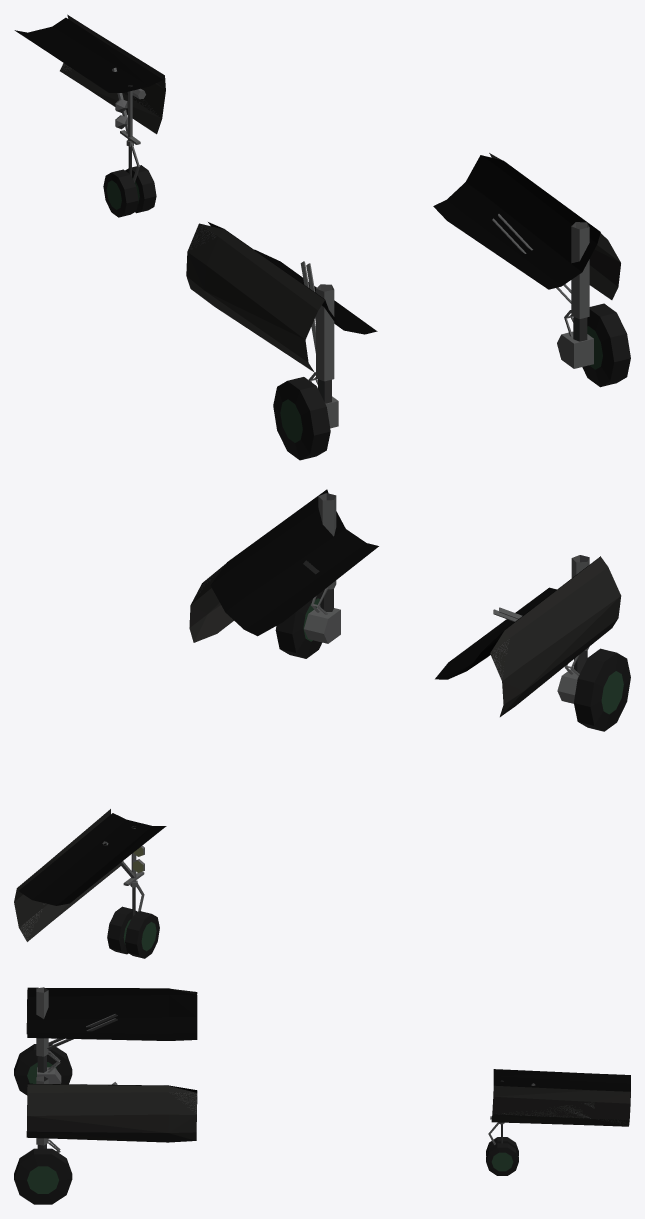
Rendered from Gear_Su47NG.obj.
3 views of the same model, one above another, from view 1: azimuth 30°, elevation 25°; view 2: azimuth 150°, elevation 25°; view 3: azimuth 270°, elevation 25° (orthographic). The views are drawn at different scales.
Parts seen in each view (by area): view 1: ShapeIndexedFaceSet.080_ShapeIndexedFaceSet.081, ShapeIndexedFaceSet.081_ShapeIndexedFaceSet.082, ShapeIndexedFaceSet.092_ShapeIndexedFaceSet.093, ShapeIndexedFaceSet.100_ShapeIndexedFaceSet.101, ShapeIndexedFaceSet.104_ShapeIndexedFaceSet.105, ShapeIndexedFaceSet.085_ShapeIndexedFaceSet.086, ShapeIndexedFaceSet.088_ShapeIndexedFaceSet.089, ShapeIndexedFaceSet.098_ShapeIndexedFaceSet.099, ShapeIndexedFaceSet.083_ShapeIndexedFaceSet.084, ShapeIndexedFaceSet.094_ShapeIndexedFaceSet.095, ShapeIndexedFaceSet.093_ShapeIndexedFaceSet.094; view 2: ShapeIndexedFaceSet.080_ShapeIndexedFaceSet.081, ShapeIndexedFaceSet.081_ShapeIndexedFaceSet.082, ShapeIndexedFaceSet.092_ShapeIndexedFaceSet.093, ShapeIndexedFaceSet.085_ShapeIndexedFaceSet.086, ShapeIndexedFaceSet.100_ShapeIndexedFaceSet.101, ShapeIndexedFaceSet.098_ShapeIndexedFaceSet.099, ShapeIndexedFaceSet.083_ShapeIndexedFaceSet.084, ShapeIndexedFaceSet.104_ShapeIndexedFaceSet.105, ShapeIndexedFaceSet.088_ShapeIndexedFaceSet.089, ShapeIndexedFaceSet.093_ShapeIndexedFaceSet.094; view 3: ShapeIndexedFaceSet.080_ShapeIndexedFaceSet.081, ShapeIndexedFaceSet.083_ShapeIndexedFaceSet.084, ShapeIndexedFaceSet.085_ShapeIndexedFaceSet.086, ShapeIndexedFaceSet.104_ShapeIndexedFaceSet.105, ShapeIndexedFaceSet.092_ShapeIndexedFaceSet.093, ShapeIndexedFaceSet.088_ShapeIndexedFaceSet.089, ShapeIndexedFaceSet.098_ShapeIndexedFaceSet.099, ShapeIndexedFaceSet.105_ShapeIndexedFaceSet.106, ShapeIndexedFaceSet.091_ShapeIndexedFaceSet.092, ShapeIndexedFaceSet.099_ShapeIndexedFaceSet.100.
Part boxes in pixels (x1,y1,x2,y2): ShapeIndexedFaceSet.080_ShapeIndexedFaceSet.081: (14,17,600,334); ShapeIndexedFaceSet.081_ShapeIndexedFaceSet.082: (186,223,324,372); ShapeIndexedFaceSet.092_ShapeIndexedFaceSet.093: (273,377,330,460); ShapeIndexedFaceSet.100_ShapeIndexedFaceSet.101: (557,222,593,368); ShapeIndexedFaceSet.104_ShapeIndexedFaceSet.105: (582,303,630,387); ShapeIndexedFaceSet.085_ShapeIndexedFaceSet.086: (60,14,165,134); ShapeIndexedFaceSet.088_ShapeIndexedFaceSet.089: (308,284,338,428); ShapeIndexedFaceSet.098_ShapeIndexedFaceSet.099: (103,165,156,217); ShapeIndexedFaceSet.083_ShapeIndexedFaceSet.084: (489,153,620,299); ShapeIndexedFaceSet.094_ShapeIndexedFaceSet.095: (112,67,140,144); ShapeIndexedFaceSet.093_ShapeIndexedFaceSet.094: (280,399,302,442); ShapeIndexedFaceSet.080_ShapeIndexedFaceSet.081: (19,489,600,905); ShapeIndexedFaceSet.081_ShapeIndexedFaceSet.082: (490,557,621,716); ShapeIndexedFaceSet.092_ShapeIndexedFaceSet.093: (574,648,630,731); ShapeIndexedFaceSet.085_ShapeIndexedFaceSet.086: (14,809,120,941); ShapeIndexedFaceSet.100_ShapeIndexedFaceSet.101: (304,493,340,643); ShapeIndexedFaceSet.098_ShapeIndexedFaceSet.099: (107,906,159,958); ShapeIndexedFaceSet.083_ShapeIndexedFaceSet.084: (189,564,233,642); ShapeIndexedFaceSet.104_ShapeIndexedFaceSet.105: (275,593,322,658); ShapeIndexedFaceSet.088_ShapeIndexedFaceSet.089: (557,555,589,703); ShapeIndexedFaceSet.093_ShapeIndexedFaceSet.094: (601,671,623,714); ShapeIndexedFaceSet.080_ShapeIndexedFaceSet.081: (27,987,630,1103); ShapeIndexedFaceSet.083_ShapeIndexedFaceSet.084: (26,1084,197,1142); ShapeIndexedFaceSet.085_ShapeIndexedFaceSet.086: (491,1085,630,1126); ShapeIndexedFaceSet.104_ShapeIndexedFaceSet.105: (14,1148,72,1204); ShapeIndexedFaceSet.092_ShapeIndexedFaceSet.093: (14,1044,72,1095); ShapeIndexedFaceSet.088_ShapeIndexedFaceSet.089: (36,987,61,1083); ShapeIndexedFaceSet.098_ShapeIndexedFaceSet.099: (486,1137,518,1175); ShapeIndexedFaceSet.105_ShapeIndexedFaceSet.106: (27,1166,58,1193); ShapeIndexedFaceSet.091_ShapeIndexedFaceSet.092: (47,1014,117,1049); ShapeIndexedFaceSet.099_ShapeIndexedFaceSet.100: (491,1152,513,1171).
Bounding box in the file's own units: 47.27 × 26.91 × 110.
